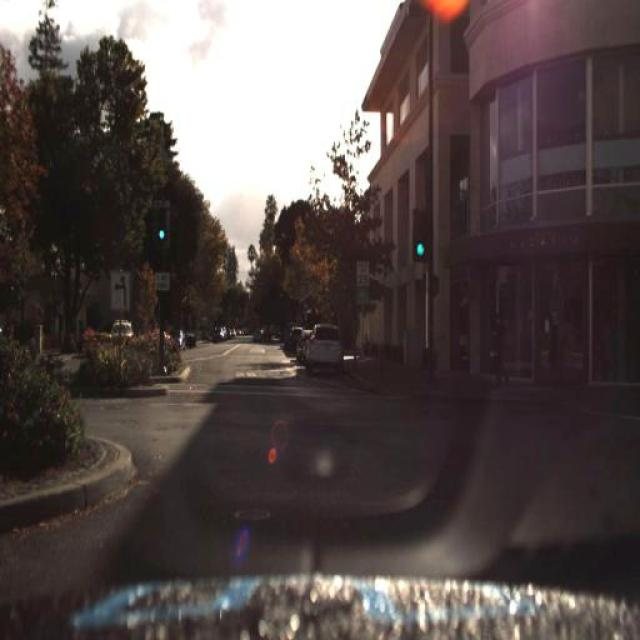semaforo: (412, 209, 431, 261), (151, 198, 170, 248)
